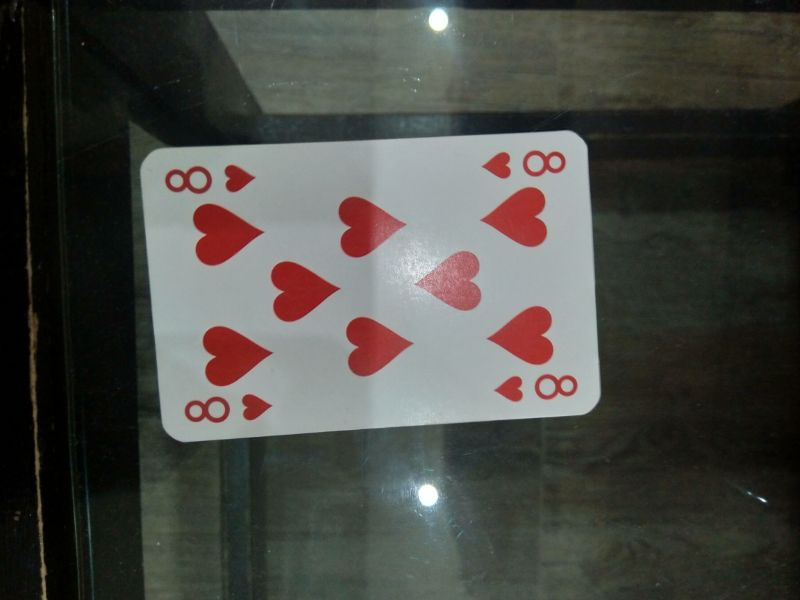8h: (160, 159, 263, 197), (479, 143, 572, 185), (491, 368, 585, 405), (183, 390, 276, 427)
